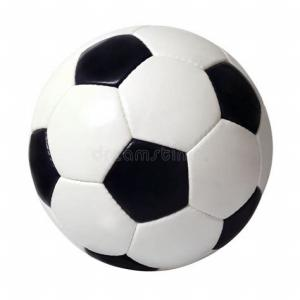Football: (26, 22, 278, 272)
